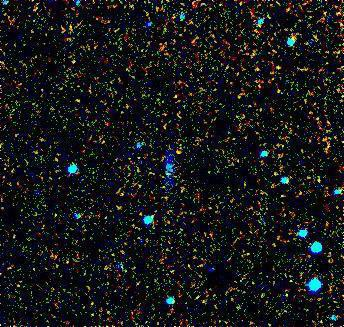star: (167, 136, 197, 166)
